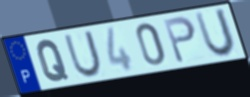0: (135, 21, 169, 69)
4: (107, 25, 137, 74)
P: (162, 15, 198, 66)
Q: (35, 38, 71, 83)
U: (192, 6, 238, 59), (62, 29, 104, 80)
